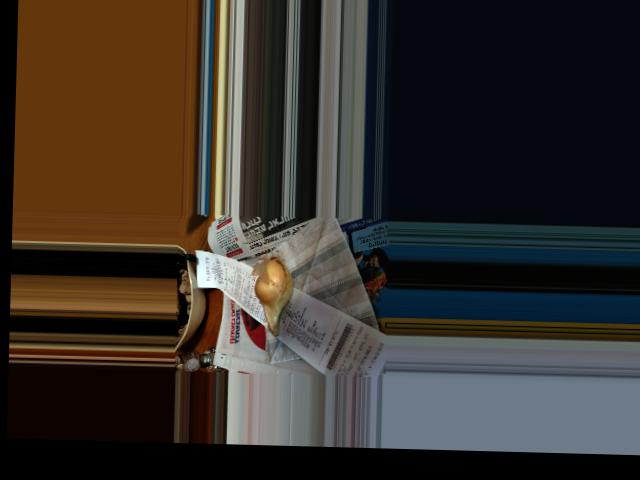onion: (252, 255, 292, 322)
